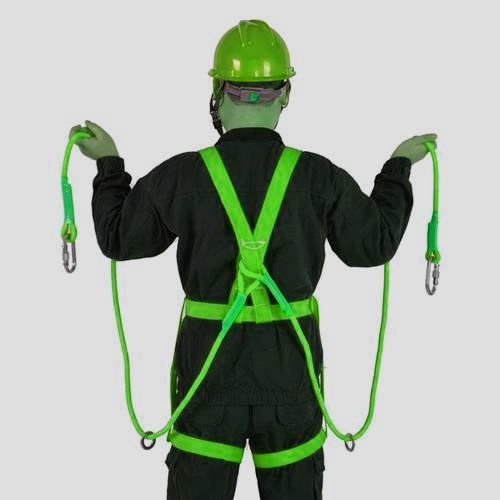safety belt: (130, 131, 374, 471)
